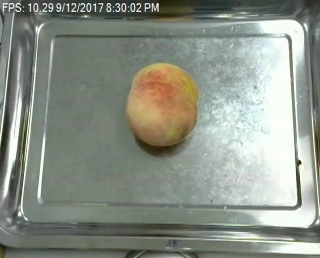Peach: (125, 61, 200, 147)
